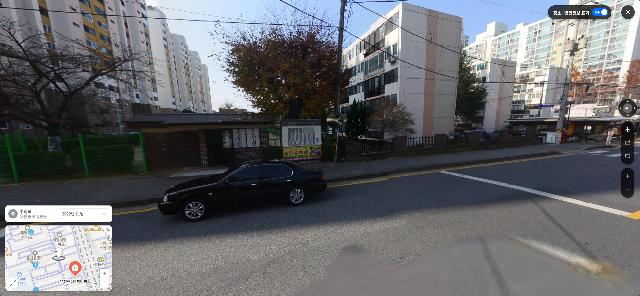other: (0, 12, 171, 168), (207, 0, 356, 154), (454, 48, 487, 132), (370, 96, 416, 150), (346, 97, 372, 150)
